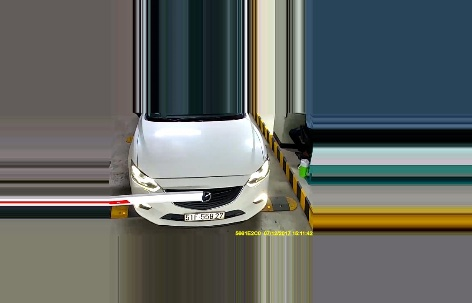plate: (183, 209, 226, 221)
